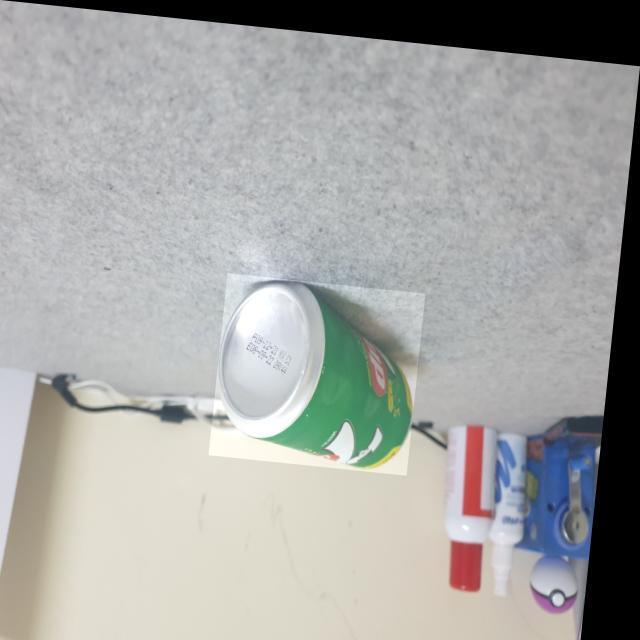trash: (215, 279, 417, 481)
